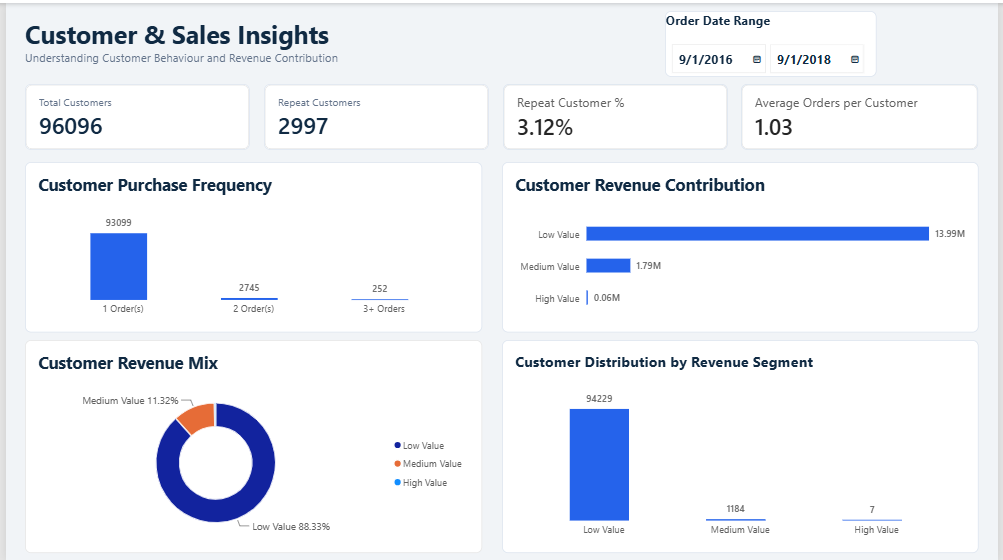

The page's visual inventory and layout, read from the dashboard file:
{"tool":"powerbi","page":{"name":"Customer & Sales Insights","canvas":[1280,720],"ordinal":1},"visuals":[{"type":"textbox","box":[24,18,700,43],"z":0},{"type":"textbox","box":[24,60,850,24],"z":1000},{"type":"cardVisual","title":"TotalOrders","fields":{"Data":["DimMonth.Total Customers Dynamic"]},"box":[25,105,290,85],"z":2000},{"type":"cardVisual","title":"TotalOrders","fields":{"Data":["DimMonth.Repeat Customers Dynamic"]},"box":[333,105,290,85],"z":3000},{"type":"cardVisual","fields":{"Data":["DimMonth.Repeat Customer % Dynamic"]},"box":[641,105,290,85],"z":4000},{"type":"cardVisual","fields":{"Data":["DimMonth.Average Orders per Customer Dynamic"]},"box":[949,105,306,85],"z":5000},{"type":"clusteredColumnChart","title":"Customer Purchase Frequency","fields":{"Category":["vw_MonthlyCustomerPurchaseFrequency.PurchaseFrequency"],"Y":["DimMonth.Customers by Selected Period Frequency"]},"box":[25,205,590,220],"z":6000},{"type":"clusteredBarChart","title":"Customer Revenue Contribution","fields":{"Category":["vw_MonthlyCustomerRevenueDetail.CustomerSegment"],"Y":["Sum(vw_MonthlyCustomerRevenueDetail.CustomerRevenue)"]},"box":[640,205,615,220],"z":7000},{"type":"donutChart","title":"Customer Revenue Mix","fields":{"Category":["vw_MonthlyCustomerRevenueDetail.CustomerSegment"],"Y":["Sum(vw_MonthlyCustomerRevenueDetail.CustomerRevenue)"]},"box":[25,435,590,275],"z":8000},{"type":"clusteredColumnChart","title":"Customer Distribution by Revenue Segment","fields":{"Category":["vw_MonthlyCustomerRevenueDetail.CustomerSegment"],"Y":["DimMonth.Customers by Selected Period Segment"]},"box":[640,435,615,275],"z":9000},{"type":"slicer","title":"Order Date Range","fields":{"Values":["DimMonth.MonthStart"]},"box":[850,10,273,85],"z":10000}]}

Visuals, with their boxes in screenshot pixels (x1, y1, x2, y2), scaled from the page's 1280x720 canvas onto the 1003x560 screenshot:
textbox: bbox=(19, 14, 567, 47)
textbox: bbox=(19, 47, 685, 65)
"TotalOrders" cardVisual: bbox=(20, 82, 247, 148)
"TotalOrders" cardVisual: bbox=(261, 82, 488, 148)
cardVisual - DimMonth.Repeat Customer % Dynamic: bbox=(502, 82, 730, 148)
cardVisual - DimMonth.Average Orders per Customer Dynamic: bbox=(744, 82, 983, 148)
"Customer Purchase Frequency" clusteredColumnChart: bbox=(20, 159, 482, 331)
"Customer Revenue Contribution" clusteredBarChart: bbox=(502, 159, 983, 331)
"Customer Revenue Mix" donutChart: bbox=(20, 338, 482, 552)
"Customer Distribution by Revenue Segment" clusteredColumnChart: bbox=(502, 338, 983, 552)
"Order Date Range" slicer: bbox=(666, 8, 880, 74)
